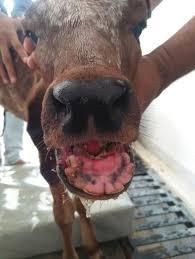fracture: (51, 120, 144, 209)
